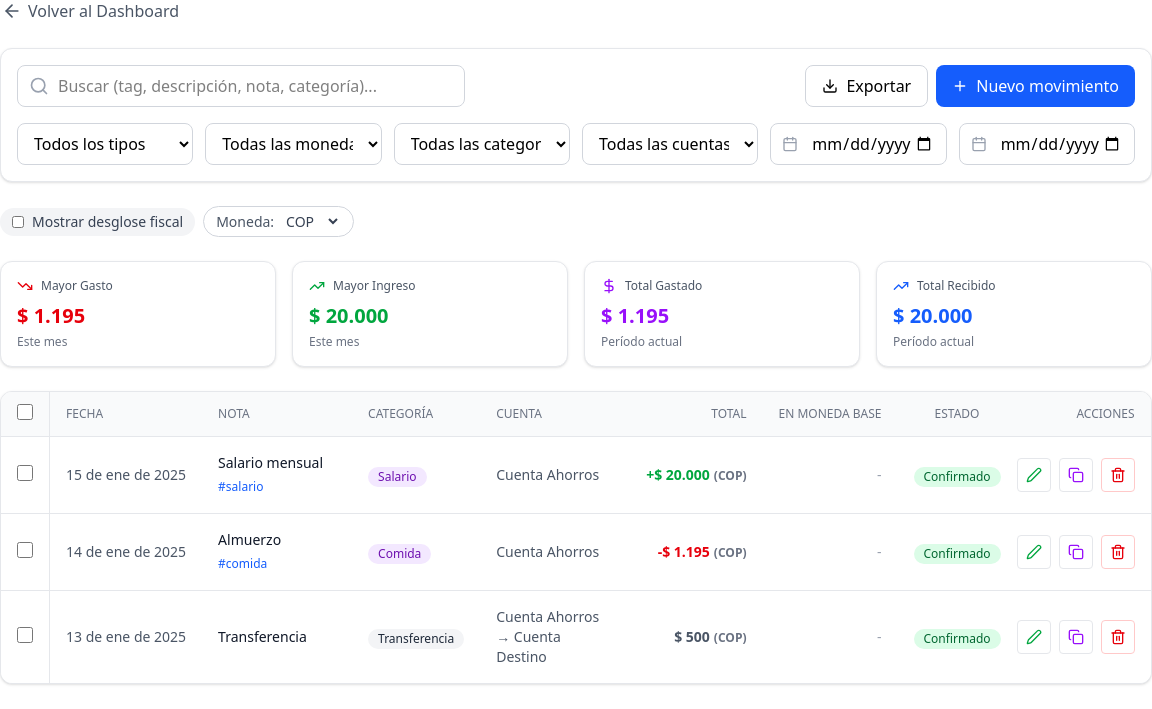
Test case: Movements › debe duplicar un movimiento
Click the button titled "Duplicar" in the row of "15 de ene de 2025" at [1076, 475], box [1059, 458, 1093, 492]
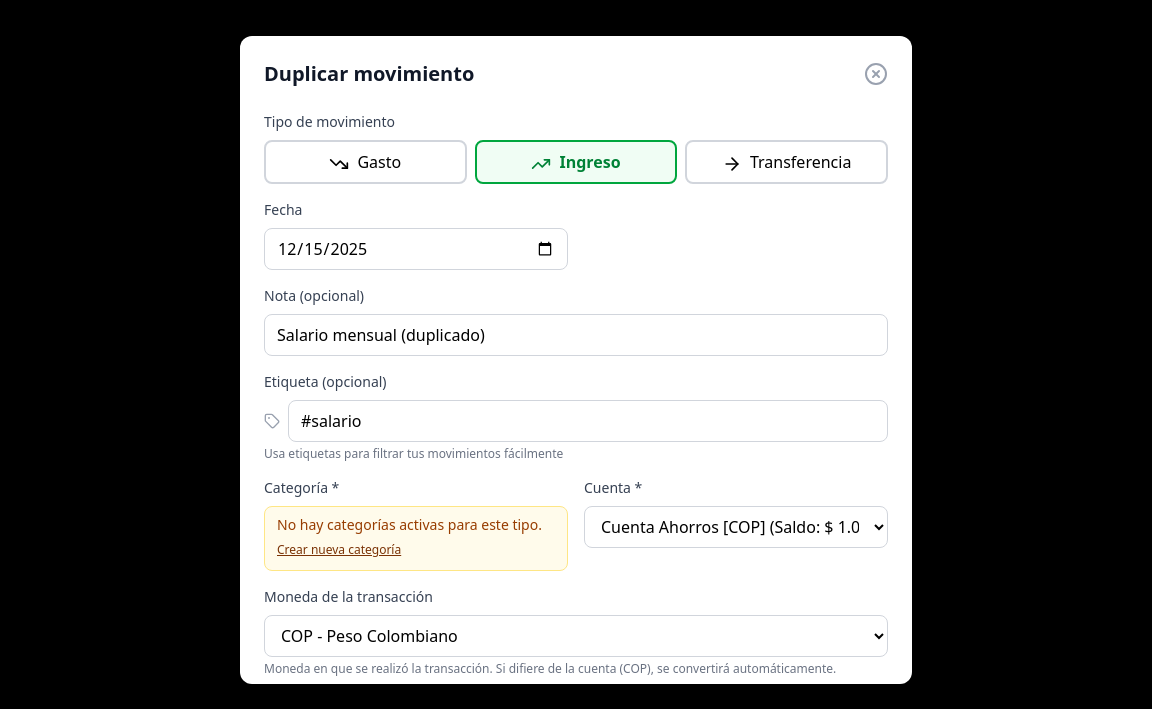
Now the heading "Duplicar movimiento" is shown, box [264, 60, 474, 88]
